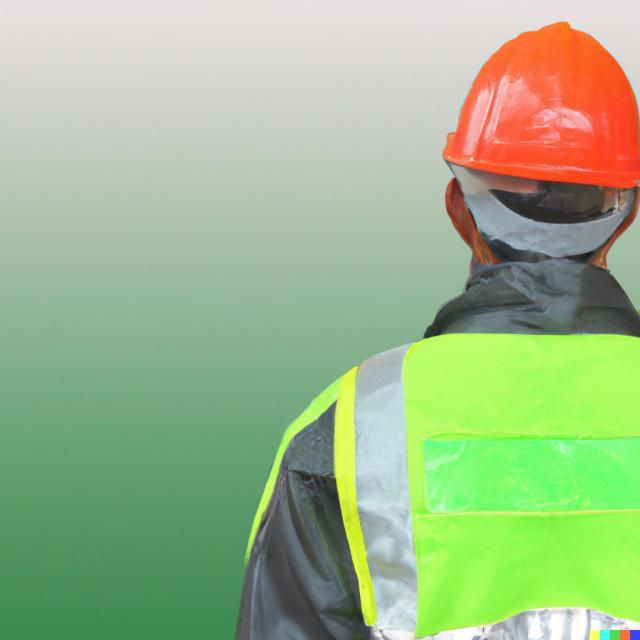reflective_jacket: (230, 280, 639, 638)
safety_helmet: (440, 23, 638, 187)
